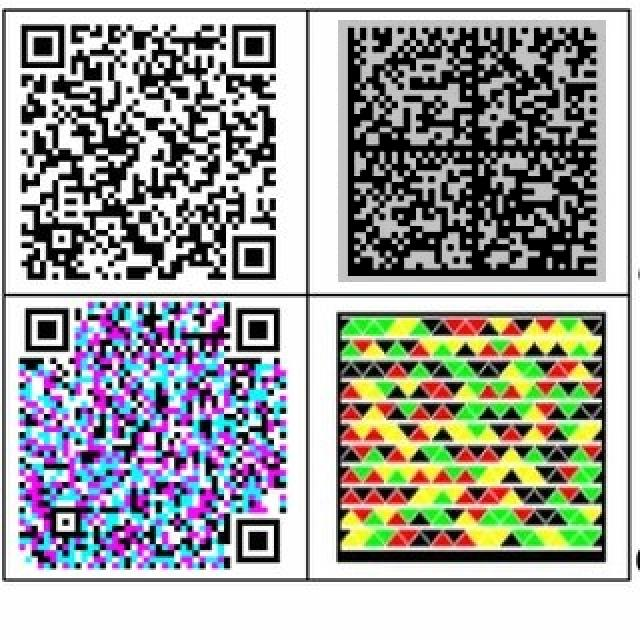DataMatrix: (338, 20, 606, 282)
